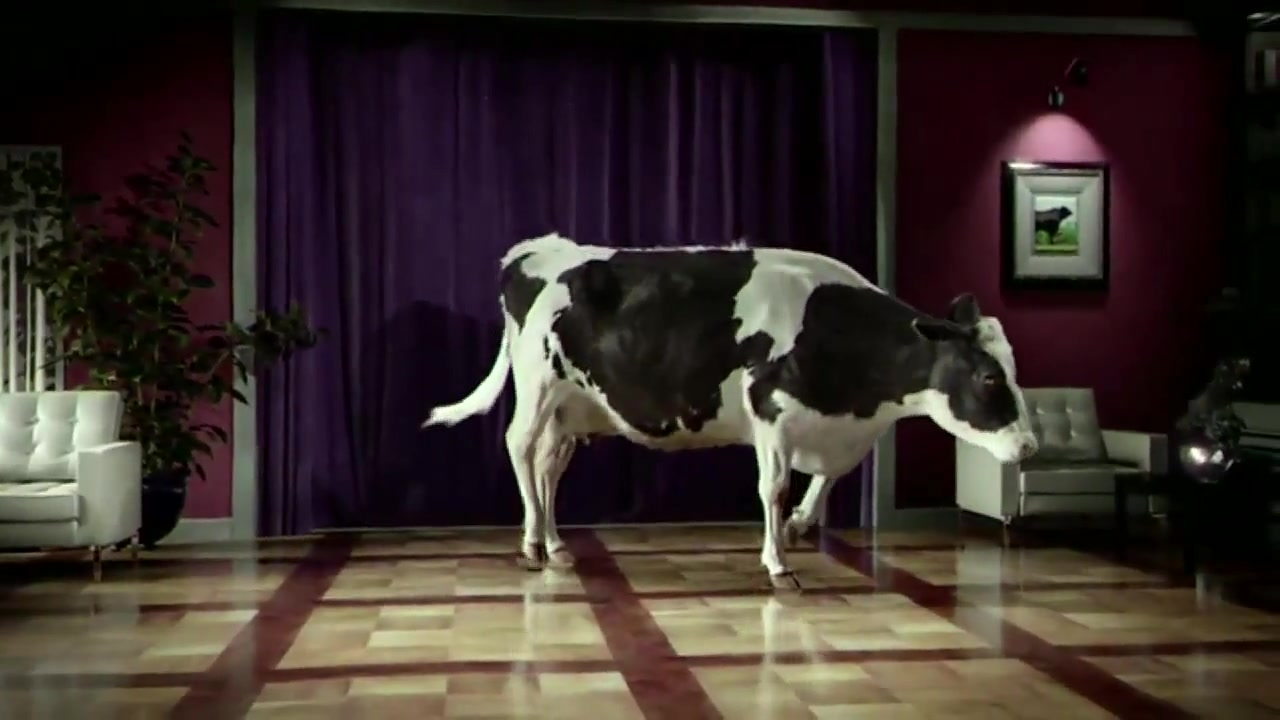cow: (425, 233, 1040, 602)
